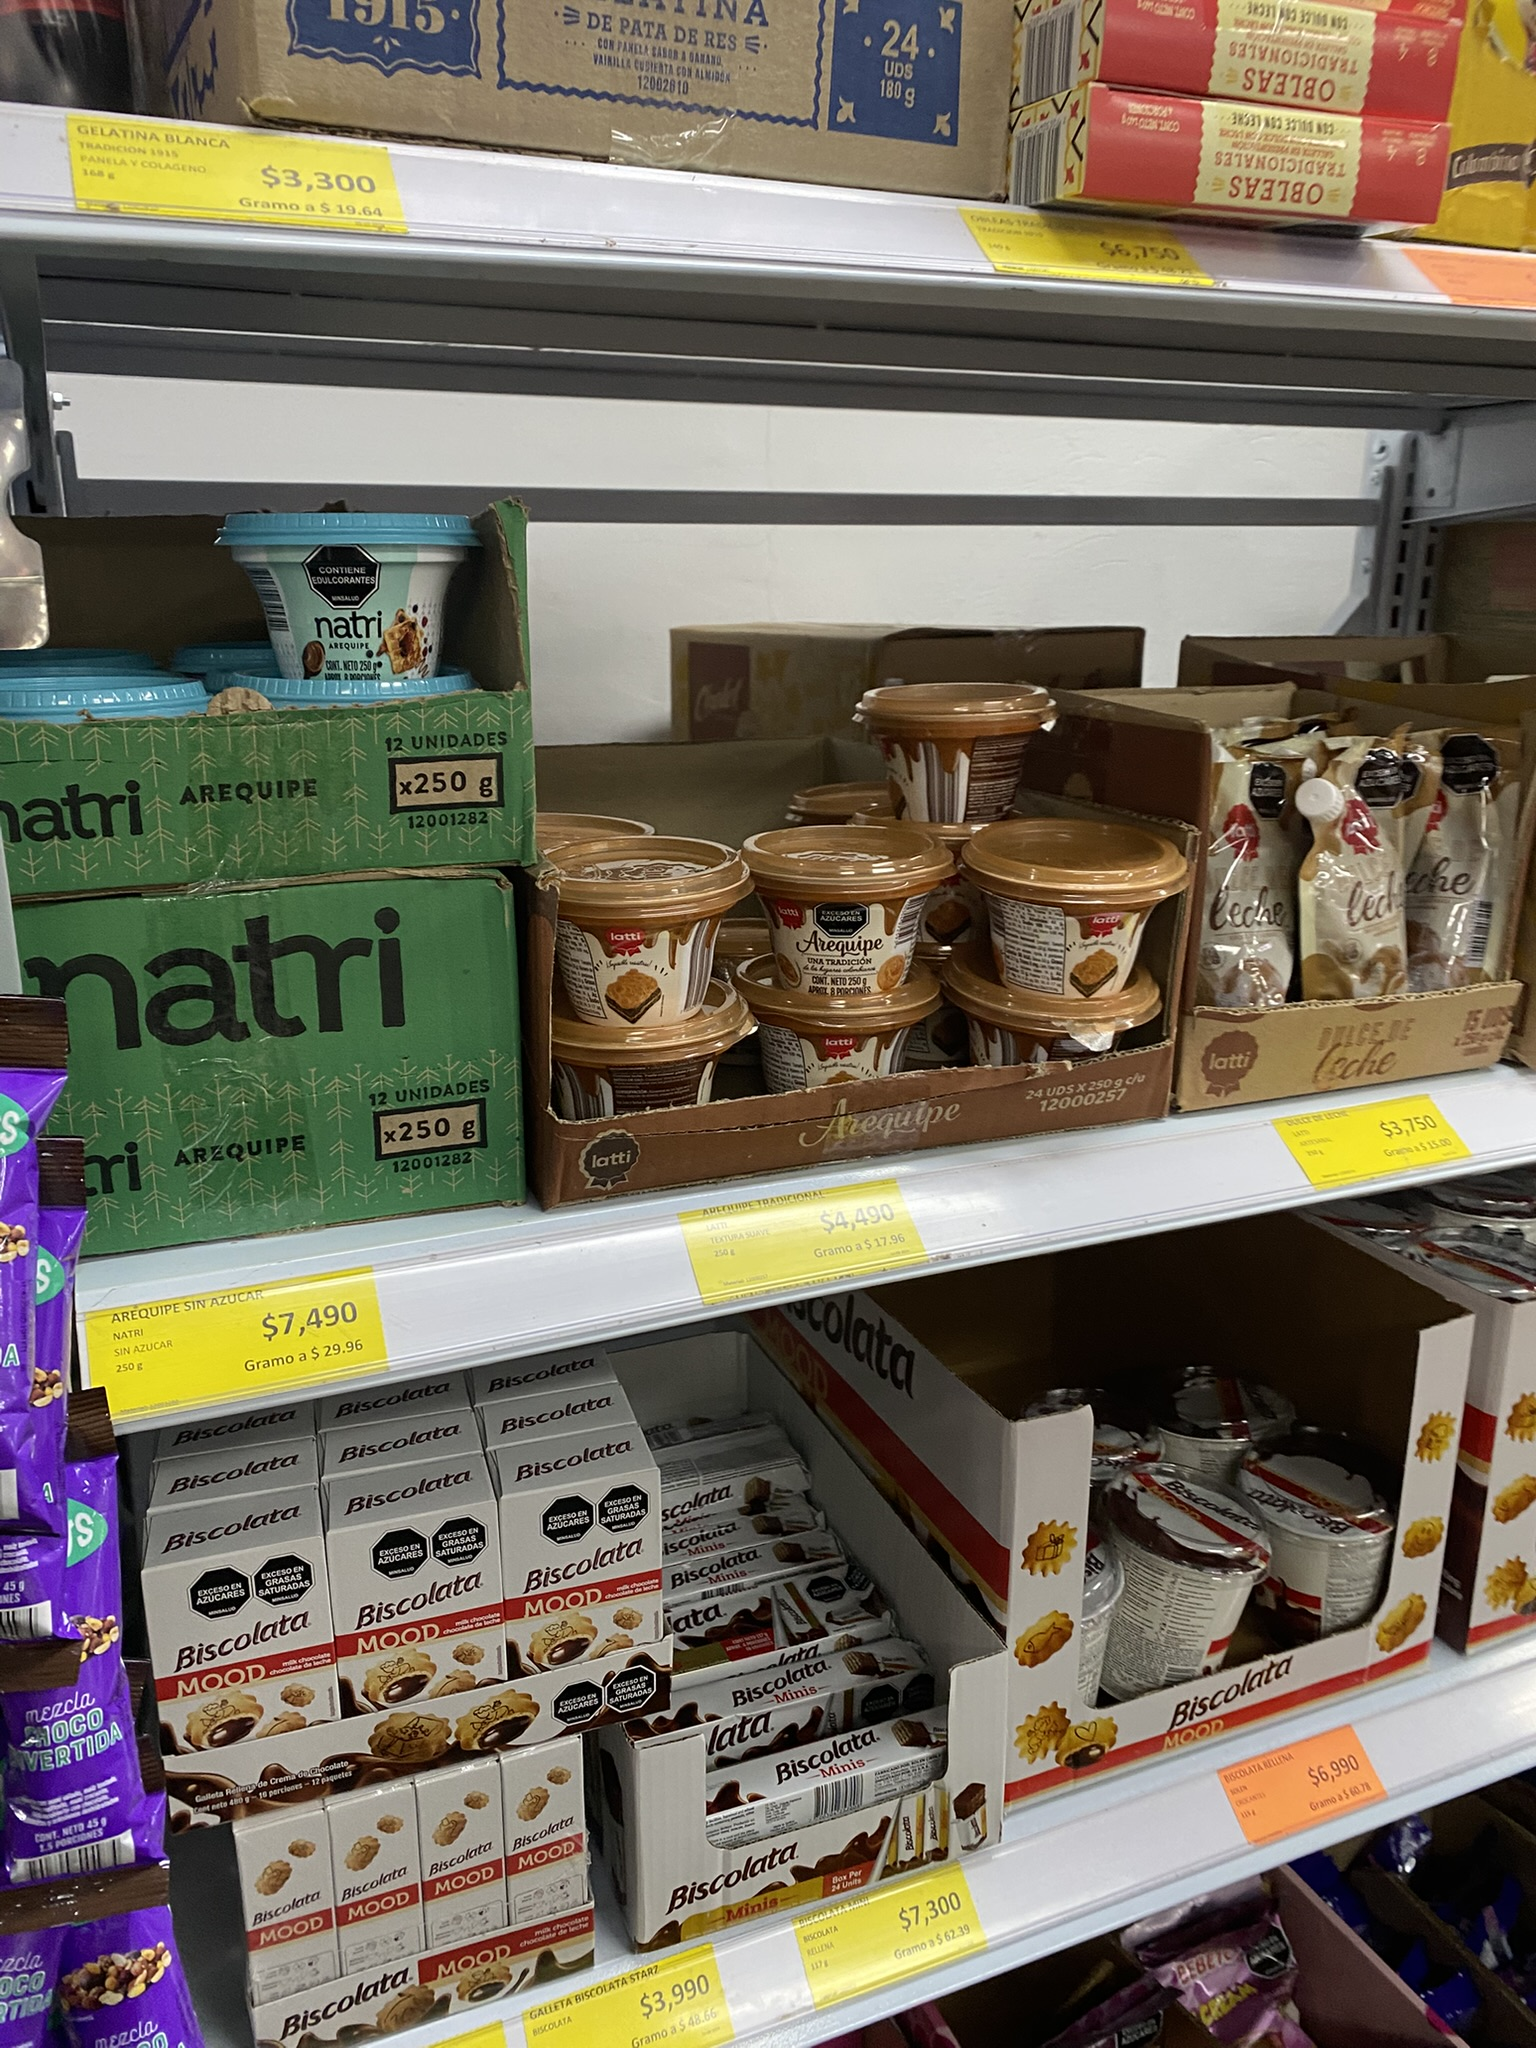Arequipe: (527, 824, 750, 1033), (978, 792, 1198, 983), (726, 811, 956, 991), (850, 673, 1060, 827), (742, 972, 956, 1092)
